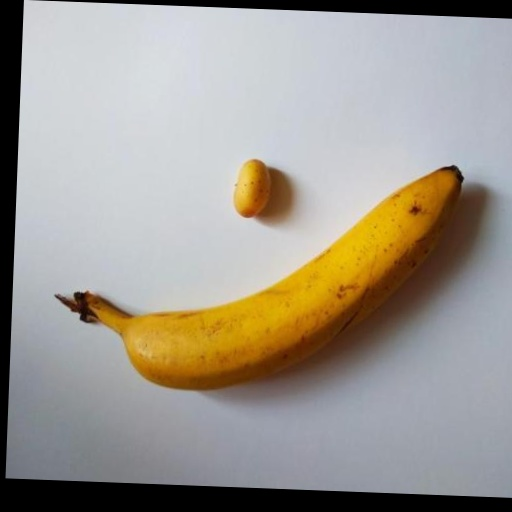fruit: (57, 166, 461, 388), (233, 159, 269, 217)
